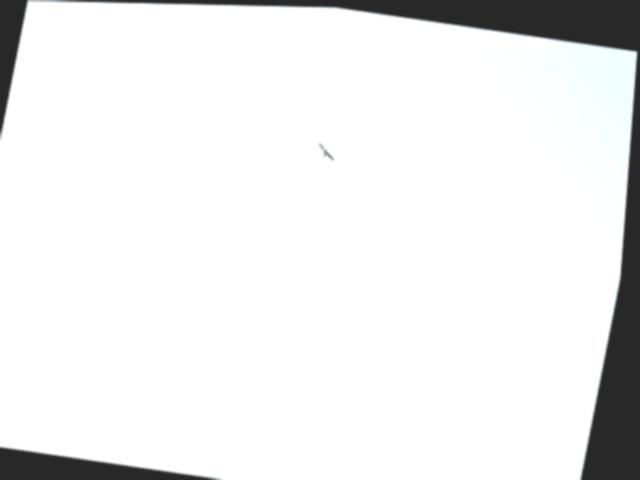plane: (317, 139, 340, 160)
